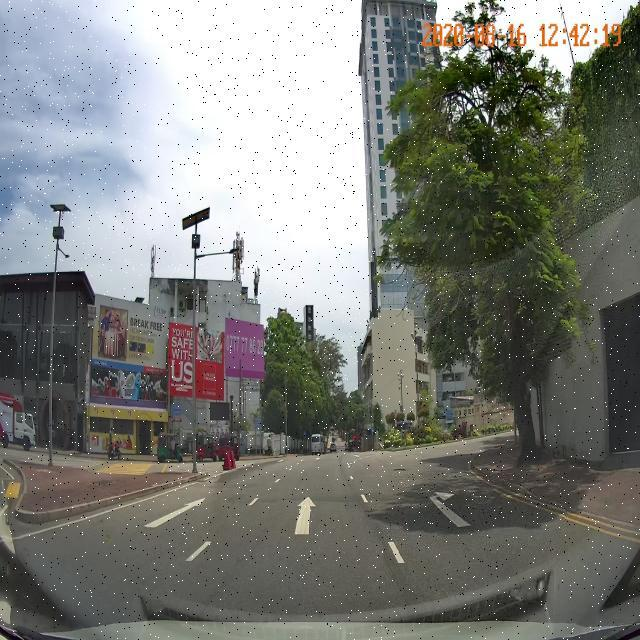forward: (216, 493, 388, 536)
right: (360, 474, 565, 552)
